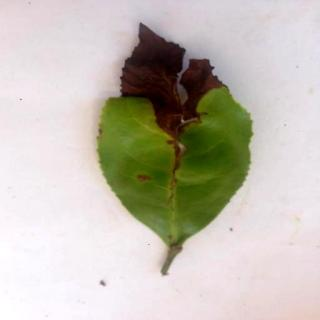Brown Blight: (98, 22, 256, 277)
